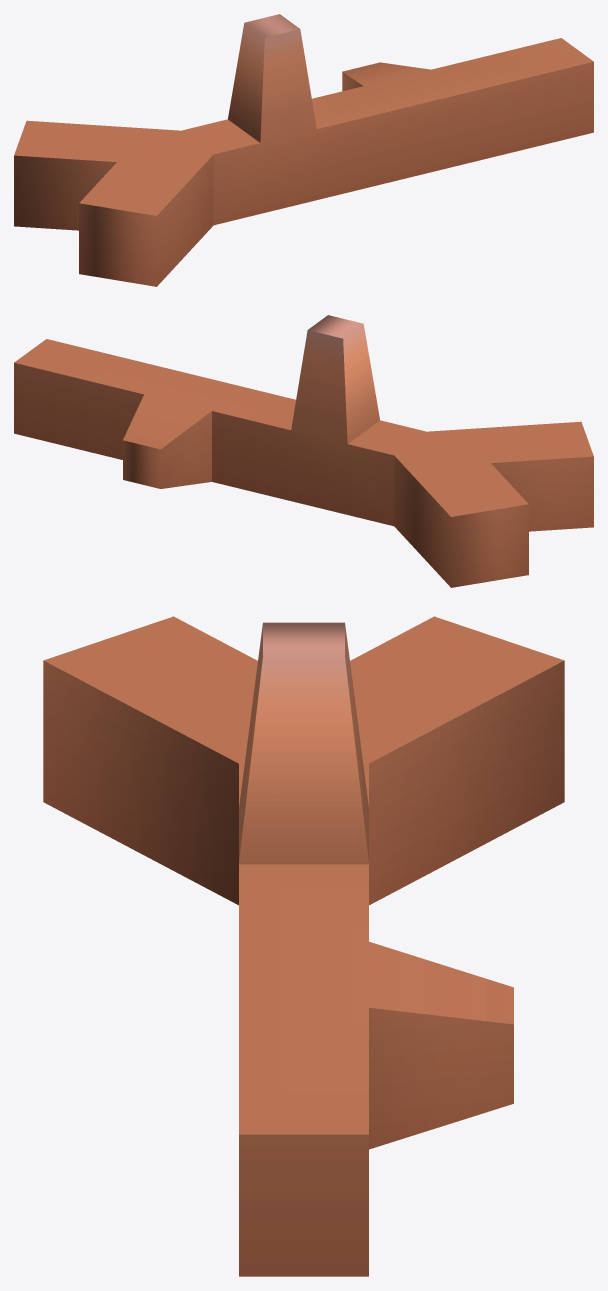
File: resource-wood.glb
The picture shows the model from 3 angles, top to bottom: view 1: azimuth 30°, elevation 25°; view 2: azimuth 150°, elevation 25°; view 3: azimuth 270°, elevation 25°; orthographic projection. The views are drawn at different scales.
Parts seen in each view (by area): view 1: resource-wood; view 2: resource-wood; view 3: resource-wood.
Boxes of the visible parts, x1,y1,x2,y2 form: resource-wood: (14, 14, 593, 286); resource-wood: (14, 315, 593, 587); resource-wood: (43, 616, 564, 1276).
Bounding box in the file's own units: 0.205 × 0.0624 × 0.0871.
Materials: 1 (1 with a texture image).
